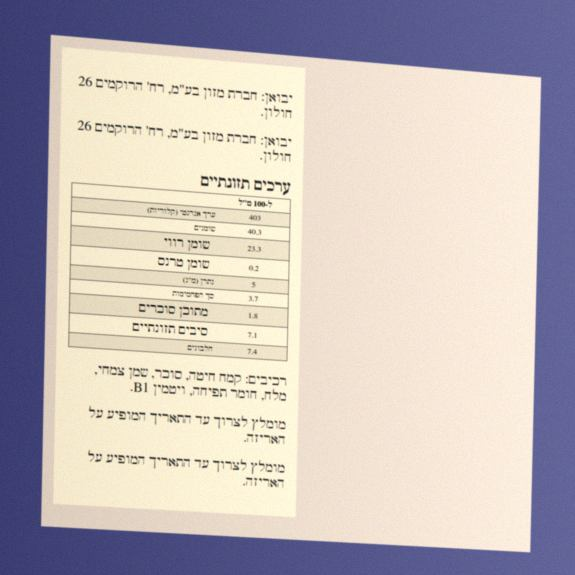carbs: (247, 294, 259, 304)
energy: (248, 213, 262, 223)
fat: (247, 227, 263, 237)
protein: (246, 346, 258, 357)
